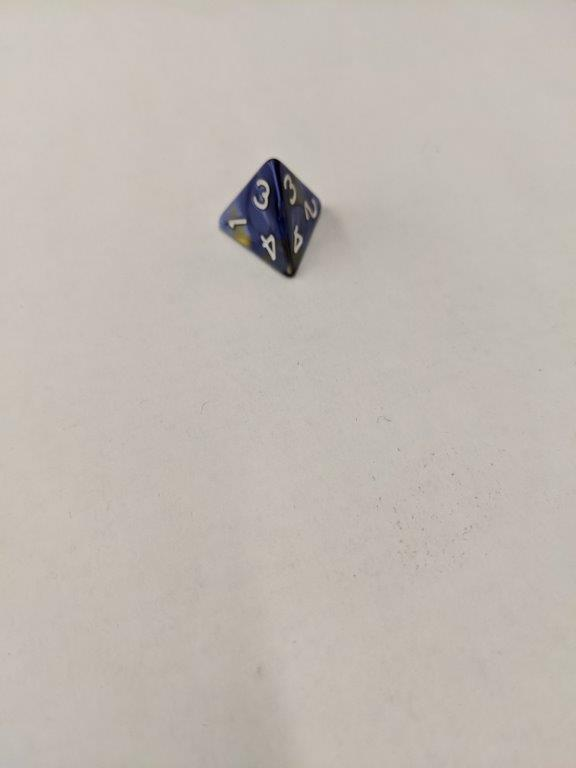d4-3: (213, 158, 326, 283)
